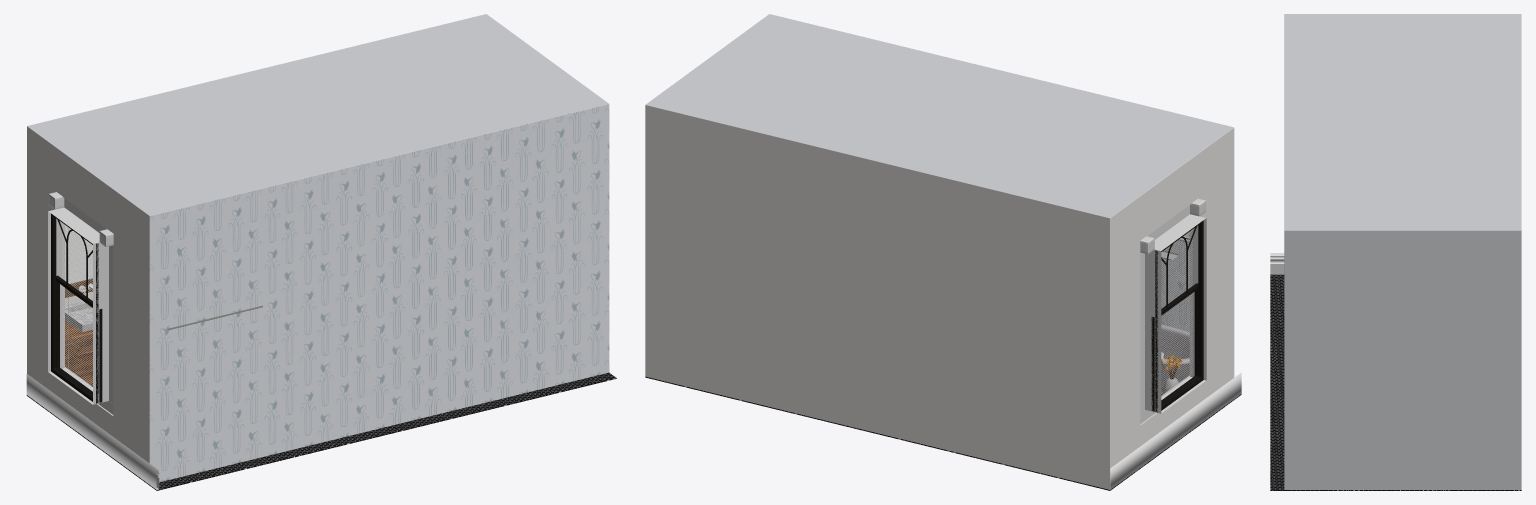
The model's file is contemporary-bathroom.glb.
3 renders of one model, left to right at view 1: azimuth 30°, elevation 25°; view 2: azimuth 150°, elevation 25°; view 3: azimuth 270°, elevation 25°, orthographic. The views are drawn at different scales.
Parts seen in each view (by area): view 1: Wallpaper, StainlessRough, Floor, Wood_0001, Marble_0001; view 2: StainlessRough, Wallpaper, Floor; view 3: StainlessRough, Floor.
Boxes of the visible parts, x1=… form: Wallpaper: x1=149, y1=104, x2=609, y2=482; StainlessRough: x1=26, y1=14, x2=608, y2=489; Floor: x1=26, y1=372, x2=616, y2=490; Wood_0001: x1=65, y1=278, x2=92, y2=385; Marble_0001: x1=65, y1=299, x2=92, y2=332; StainlessRough: x1=645, y1=14, x2=1241, y2=489; Wallpaper: x1=1161, y1=232, x2=1189, y2=331; Floor: x1=645, y1=376, x2=1241, y2=490; StainlessRough: x1=1270, y1=14, x2=1521, y2=489; Floor: x1=1270, y1=274, x2=1521, y2=490.
Bounding box in the file's own units: 5.4 × 2.8 × 2.45.
12 materials, 12 textured.
